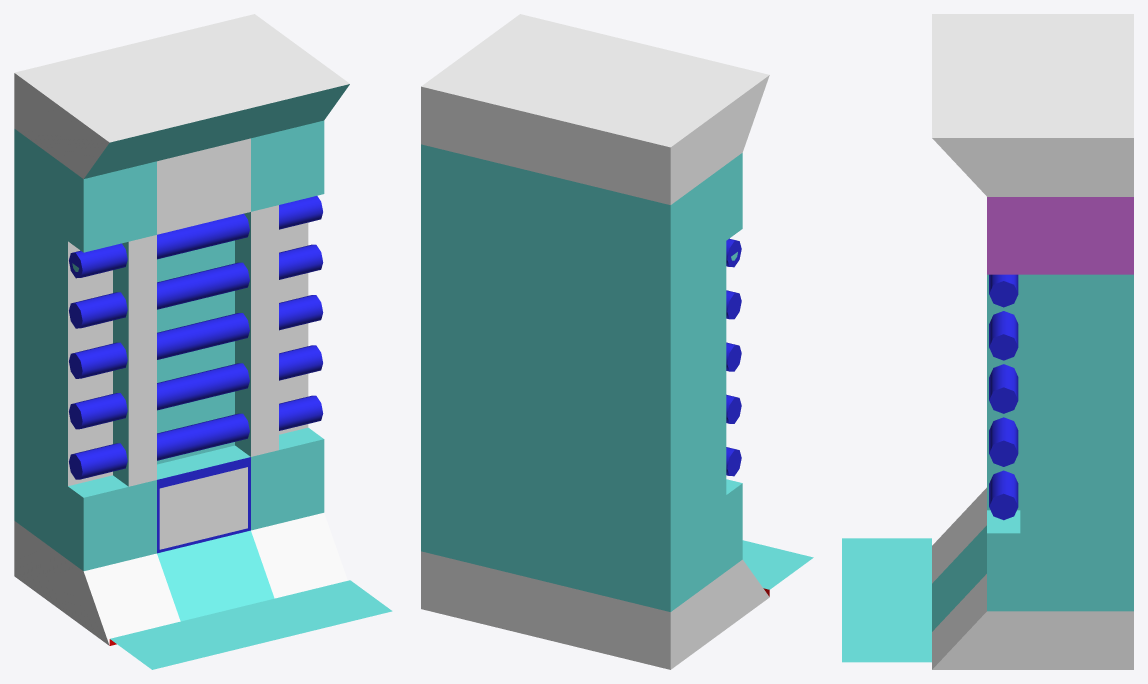
The model's file is Wall-Base.fbx.
The picture shows the model from 3 angles, left to right: view 1: azimuth 30°, elevation 25°; view 2: azimuth 150°, elevation 25°; view 3: azimuth 270°, elevation 25°; orthographic projection. The views are drawn at different scales.
Visible parts, largest first — view 1: Base; view 2: Base; view 3: Base.
Part boxes in pixels (bbox=[...]): Base: bbox=[14, 14, 392, 669]; Base: bbox=[421, 14, 813, 669]; Base: bbox=[842, 14, 1133, 669].
Size of the model in its own units: 78.74 by 157 by 78.28.
